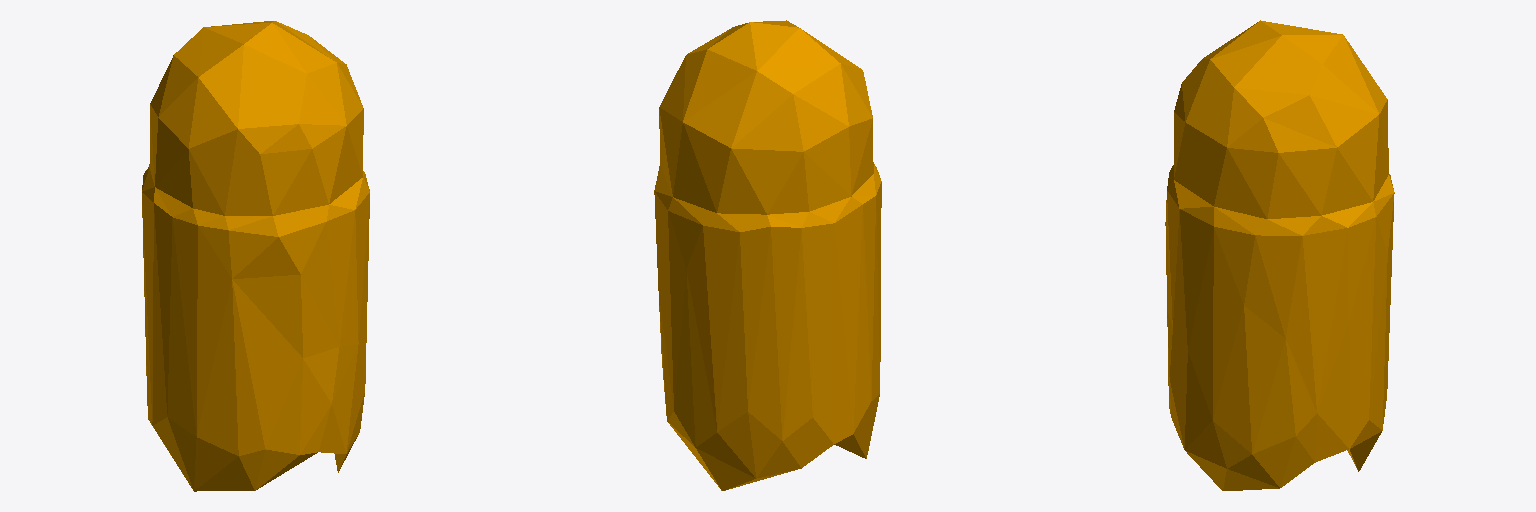
robot.urdf — Deodorant_800_tex:
<?xml version="1.0"?>
<robot name="Deodorant_800_tex">
  <link name="base_link">
    <contact>
      <lateral_friction value="1.0"/>
      <rolling_friction value="0.0"/>
      <contact_cfm value="0.0"/>
      <contact_erp value="1.0"/>
    </contact>
    <inertial>
      <mass value="0.0812381771167"/>
      <inertia ixx="1" ixy="0" ixz="0" iyy="1" iyz="0" izz="1"/>
    </inertial>
    <visual>
      <geometry>
        <mesh filename="Deodorant_800_tex_visual.obj"/>
      </geometry>
    </visual>
    <collision>
      <geometry>
        <mesh filename="Deodorant_800_tex_collision.obj"/>
      </geometry>
    </collision>
  </link>
</robot>

--- Facts derived from the render (not from the file) ---
The picture shows the robot from 3 angles, left to right: view 1: azimuth 30°, elevation 25°; view 2: azimuth 150°, elevation 25°; view 3: azimuth 270°, elevation 25°; orthographic projection.
Model Deodorant_800_tex with 1 links and 0 joints (none), rooted at base_link, posed all joints at 0.
Visible links, largest first — view 1: base_link; view 2: base_link; view 3: base_link.
Link boxes in pixels (x1,y1,x2,y2): base_link: [142, 21, 369, 491]; base_link: [654, 20, 881, 490]; base_link: [1165, 20, 1394, 490].
Bounding box of the posed robot: 0.0674 × 0.0677 × 0.1442 m (x, y, z).
1 mesh visuals loaded from 1 distinct referenced files (1 OBJ).